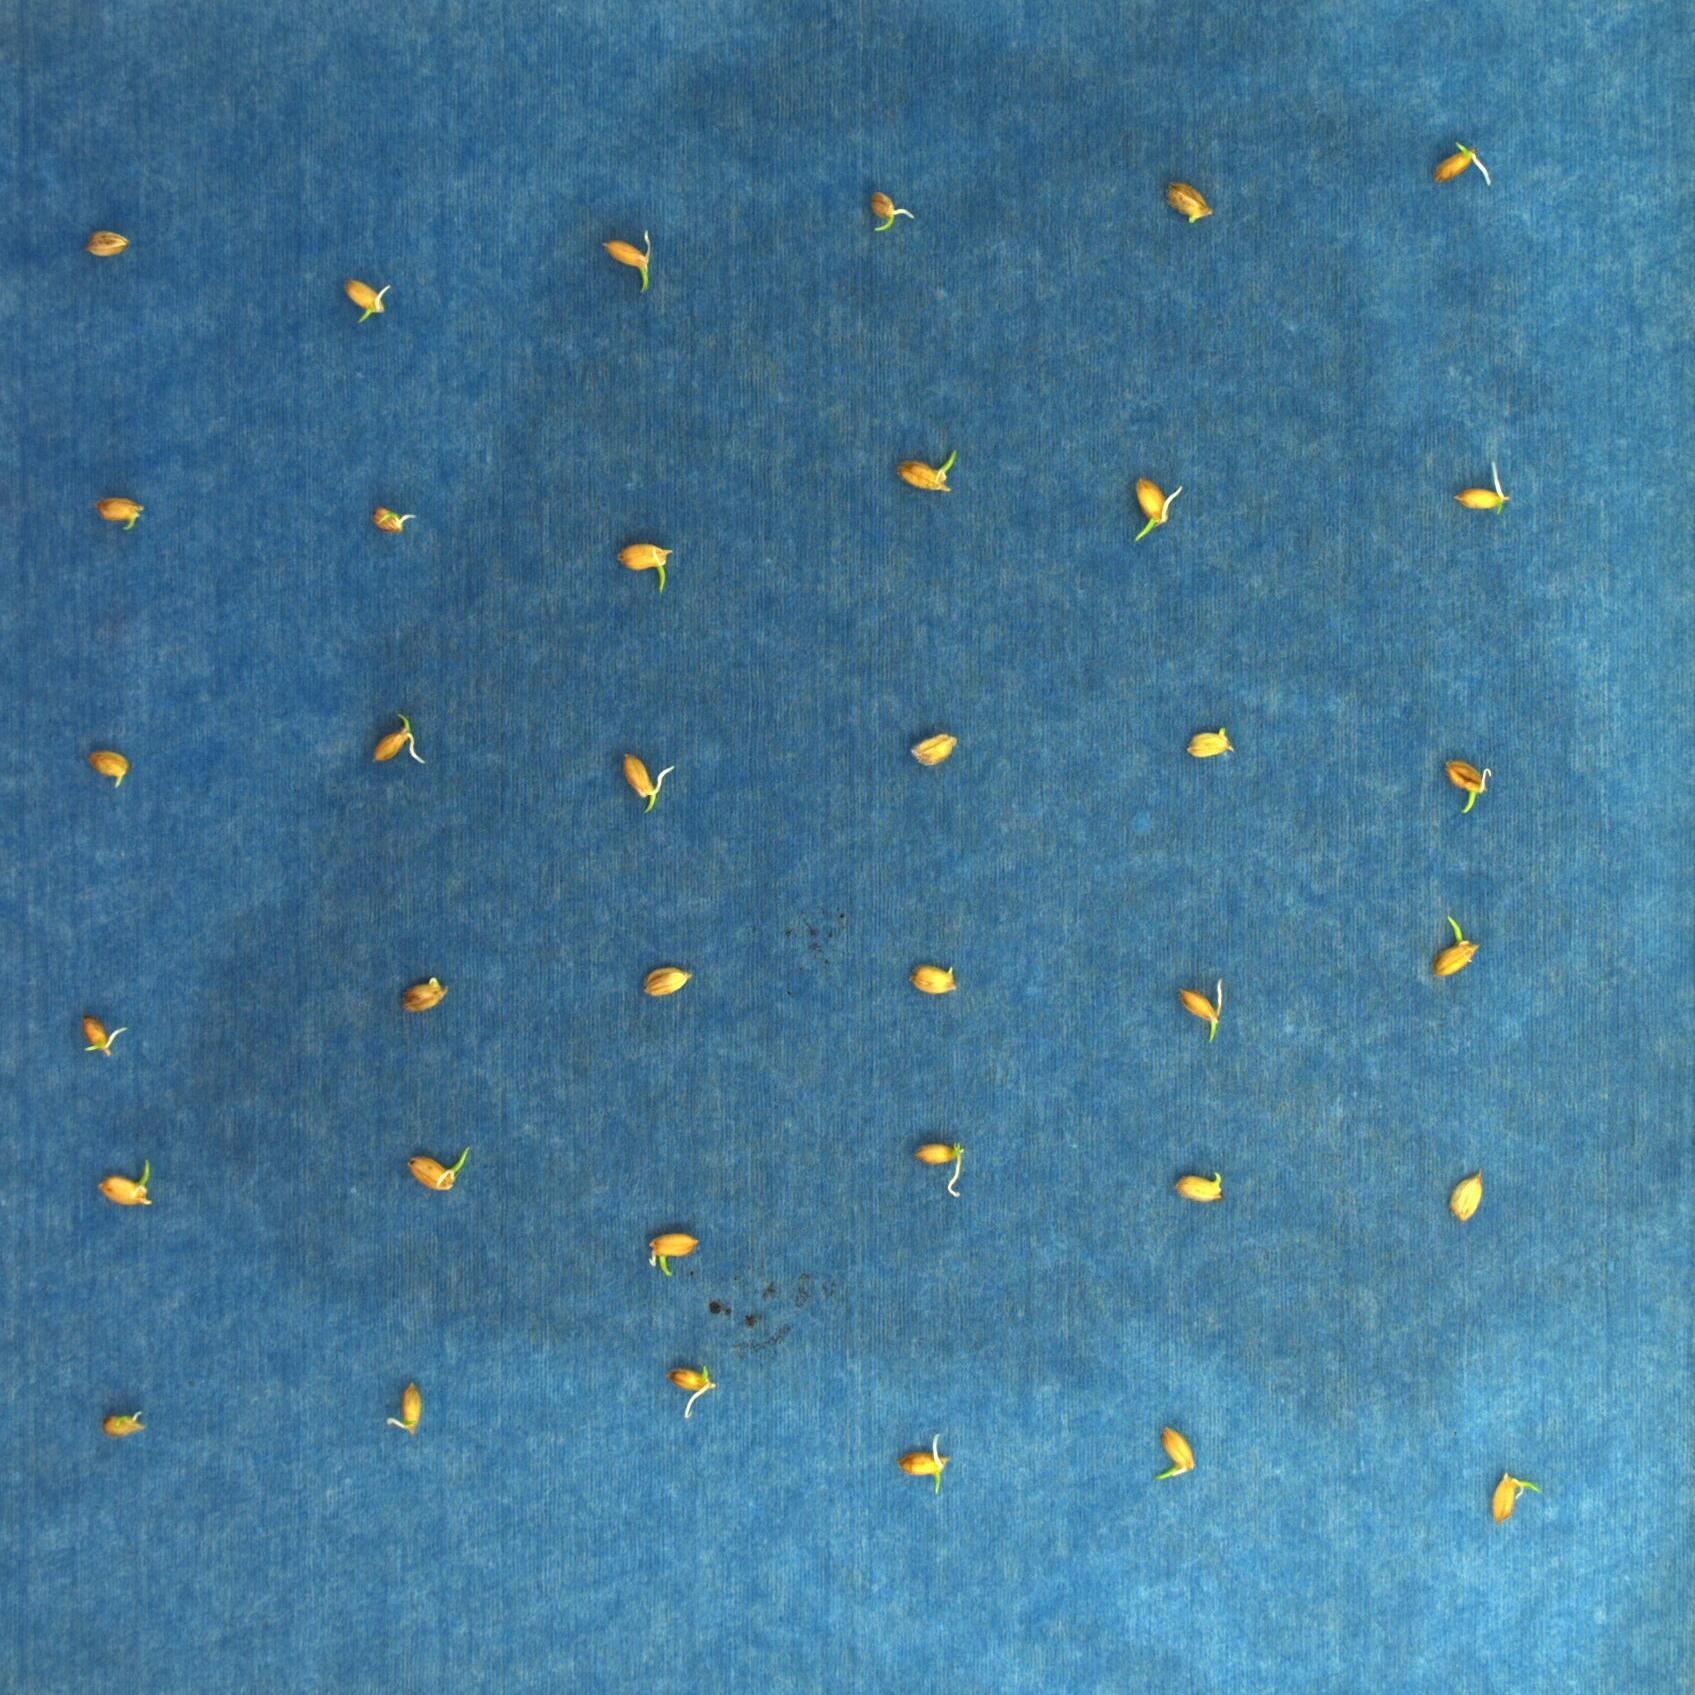not sprout: (615, 750, 674, 813), (1450, 459, 1510, 518), (1433, 133, 1495, 186), (916, 1136, 967, 1200), (1440, 1161, 1489, 1226), (1180, 979, 1226, 1045), (371, 712, 425, 767), (903, 1433, 951, 1493), (362, 497, 424, 537), (677, 1367, 717, 1426), (75, 1017, 127, 1060), (1180, 723, 1236, 764), (393, 1377, 425, 1444), (343, 279, 390, 324), (99, 490, 147, 532), (1161, 185, 1211, 225), (905, 962, 964, 995), (85, 745, 129, 789), (910, 733, 961, 768), (1175, 1172, 1226, 1208), (647, 965, 697, 1000), (81, 227, 127, 261), (404, 976, 449, 1010), (106, 1408, 147, 1440)
sprout: (1428, 910, 1484, 979), (1128, 477, 1184, 543), (95, 1156, 158, 1211), (604, 224, 652, 293), (893, 447, 958, 497), (612, 546, 672, 599), (408, 1144, 469, 1197), (641, 1228, 698, 1281), (1493, 1468, 1544, 1524), (1152, 1430, 1197, 1487), (1444, 764, 1492, 815), (865, 185, 914, 231)
